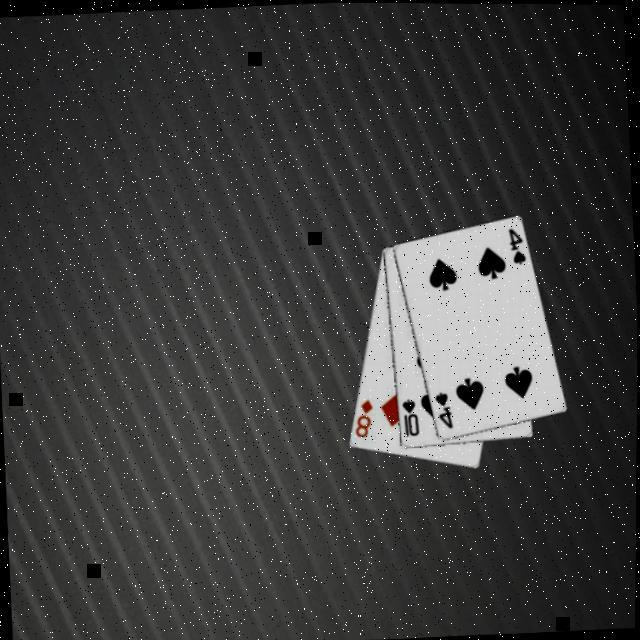10S: (398, 396, 420, 440)
4S: (430, 389, 454, 432), (503, 226, 527, 268)
8D: (350, 396, 374, 442)
